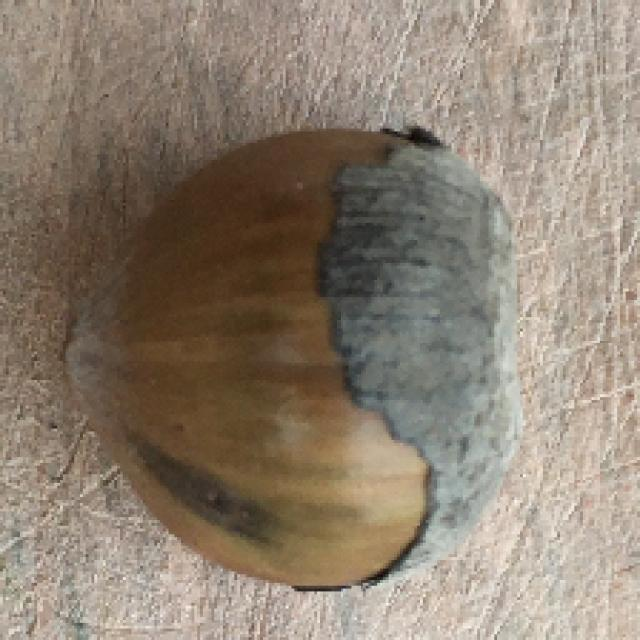damagedHazelnut: (64, 130, 521, 592)
